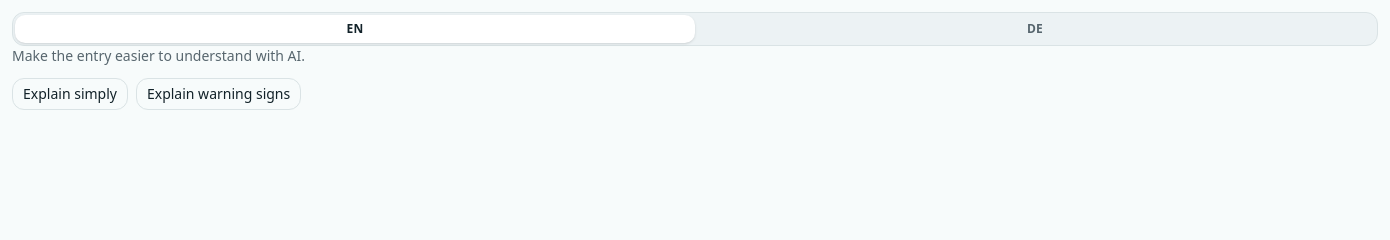
Test: drops a running request and its text when the language changes
The image size is (1390, 240).
Click the button "Explain simply": {"x": 70, "y": 94} [12,78,128,110]
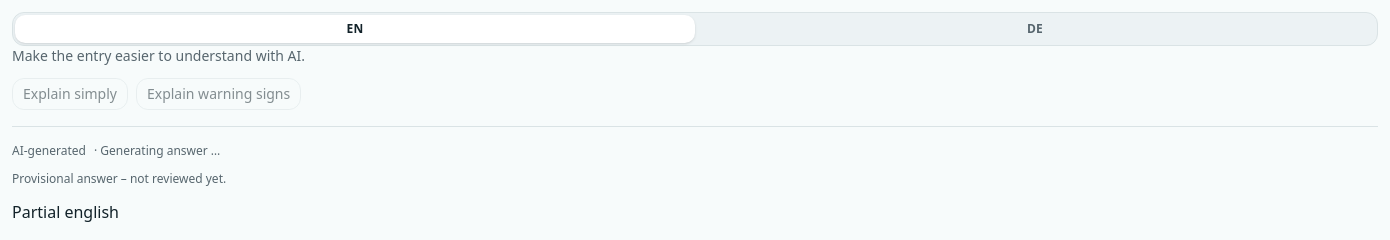
Now the text "Partial english" is shown, box [12,201,119,223]
Click the button with aria-label "German": {"x": 1035, "y": 29} [695,15,1375,43]
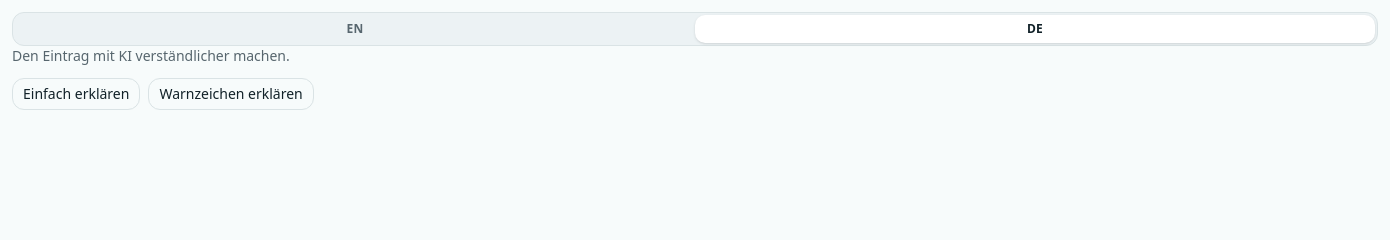
Now the text "Partial english" is gone
Now the message "· Generating answer …" is gone
Now the button "Einfach erklären" is enabled, box [12,78,140,110]
